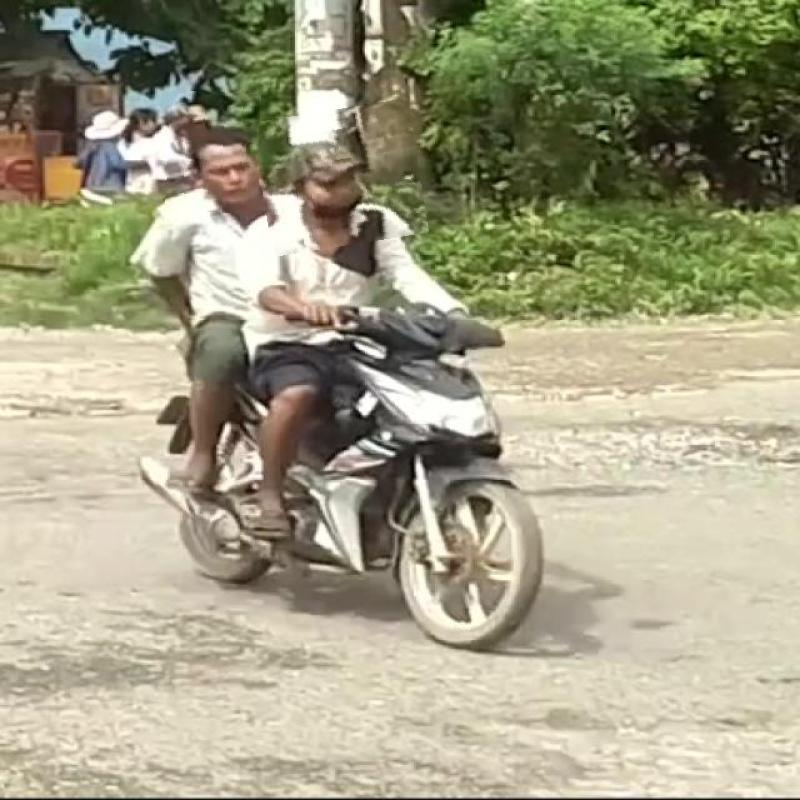nohelmet: (257, 104, 425, 252), (166, 91, 260, 213)
